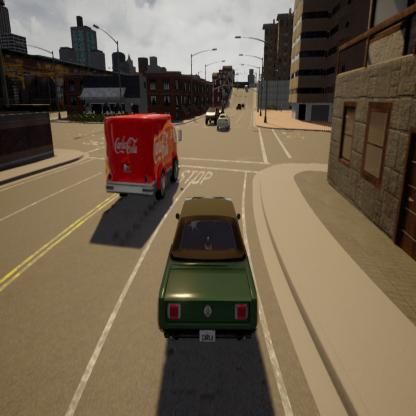Cars: (152, 172, 269, 367), (87, 79, 188, 218), (215, 97, 235, 145), (197, 92, 220, 132), (238, 89, 250, 130)
